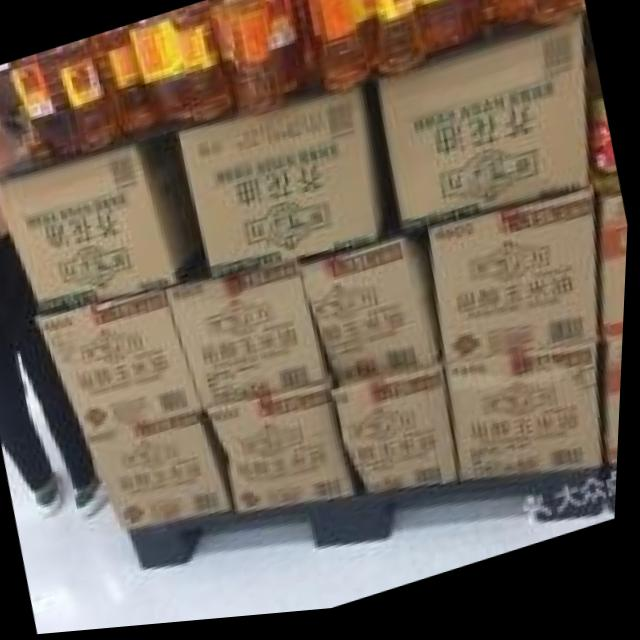box: (378, 20, 591, 244), (180, 92, 379, 281), (0, 135, 204, 315), (432, 199, 603, 372), (38, 292, 207, 447), (169, 267, 330, 415), (299, 239, 449, 393), (450, 354, 608, 485), (209, 384, 366, 514), (92, 415, 236, 531), (335, 374, 464, 496), (591, 175, 630, 357), (606, 355, 626, 474)
